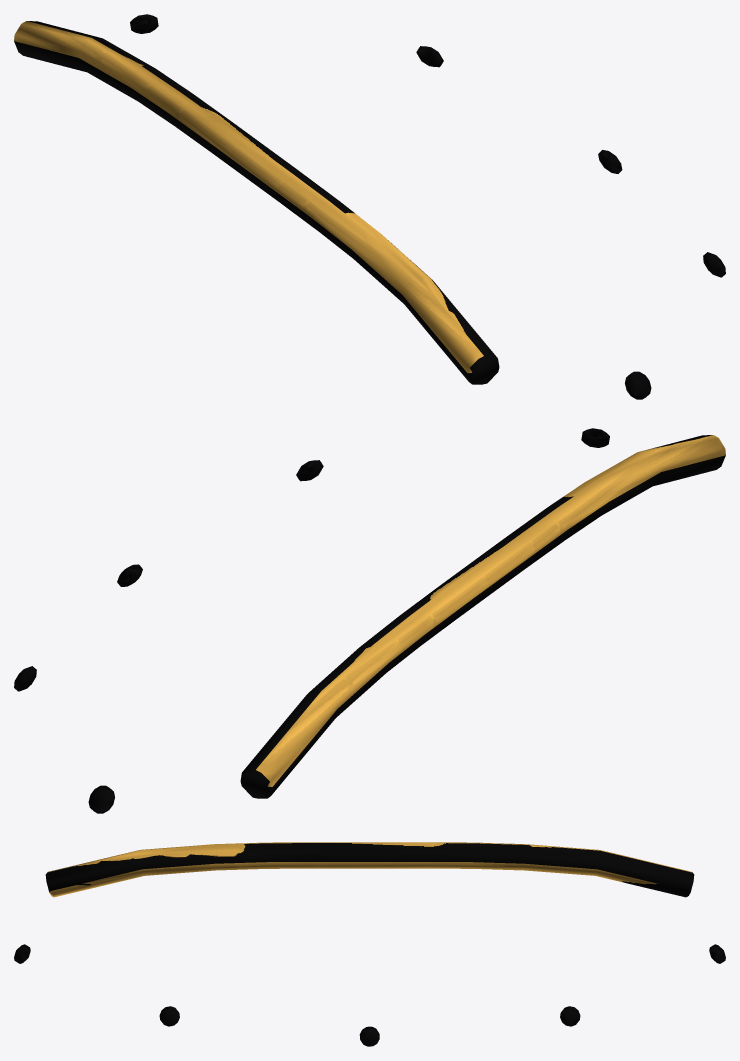
The model's file is Centinela_HombreraIzq_Oro.fbx.
The picture shows the model from 3 angles, top to bottom: view 1: azimuth 30°, elevation 25°; view 2: azimuth 150°, elevation 25°; view 3: azimuth 270°, elevation 25°; orthographic projection. The views are drawn at different scales.
Visible parts, largest first — view 1: Centinela_HombreraIzq_Oro; view 2: Centinela_HombreraIzq_Oro; view 3: Centinela_HombreraIzq_Oro.
Part boxes in pixels (bbox=[...]): Centinela_HombreraIzq_Oro: bbox=[14, 14, 725, 399]; Centinela_HombreraIzq_Oro: bbox=[14, 428, 725, 813]; Centinela_HombreraIzq_Oro: bbox=[14, 842, 725, 1046].
Bounding box in the file's own units: 0.4614 × 0.132 × 1.07.
